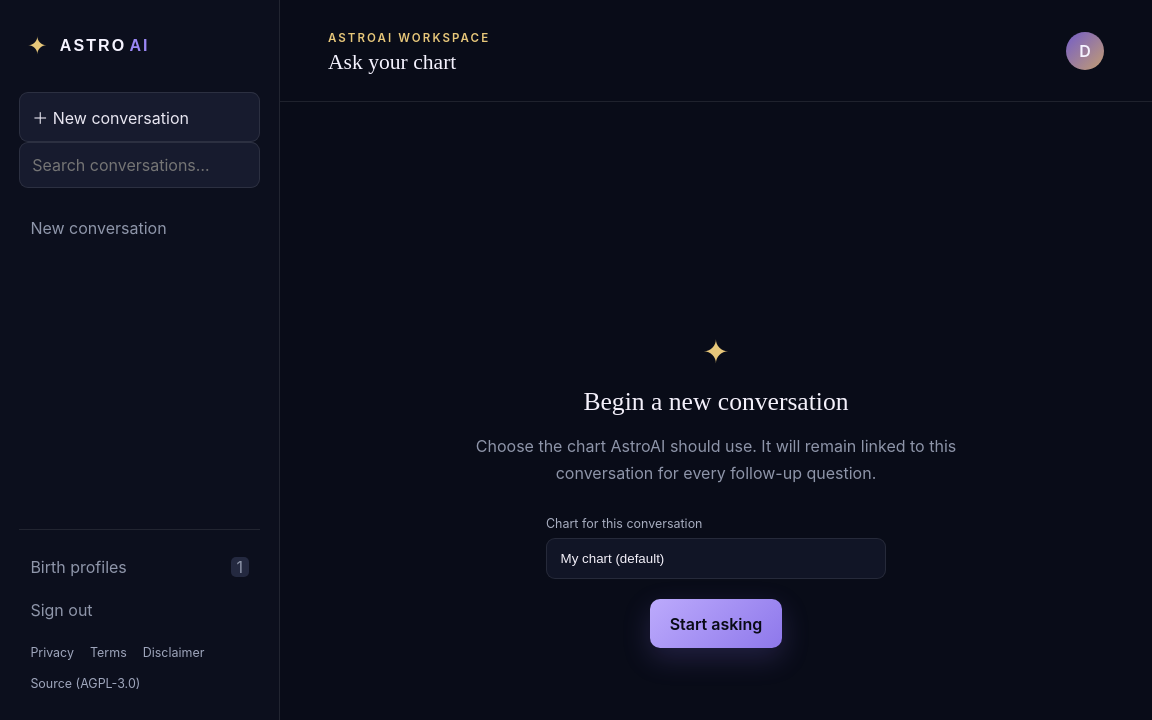
Test: AstroAI frontend foundation › adds a guided question starter to an empty conversation
This screenshot has width=1152, height=720.
Click the button "New conversation" at (108, 228), box [19,207,196,250]
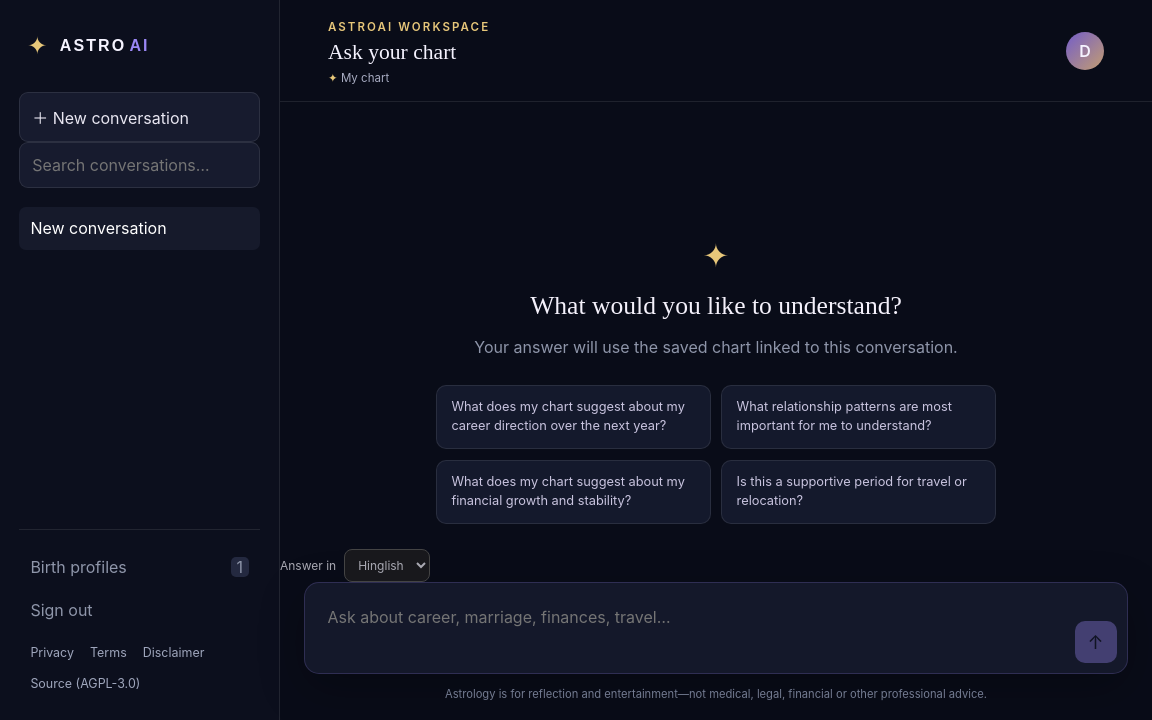
Click the button "career direction over the next year" at (573, 417), box [436,385,711,449]
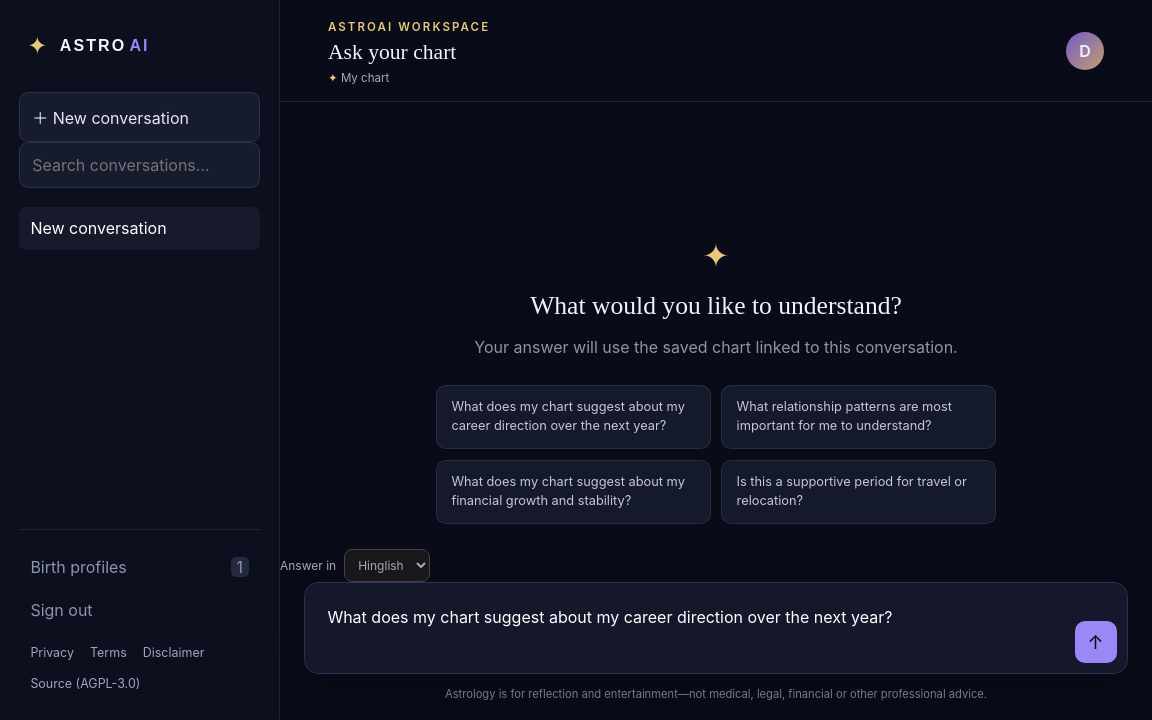
Expected: the text box named "Ask AstroAI" holds "What does my chart suggest about my career direction over the next year?", [315,594,1075,663]
